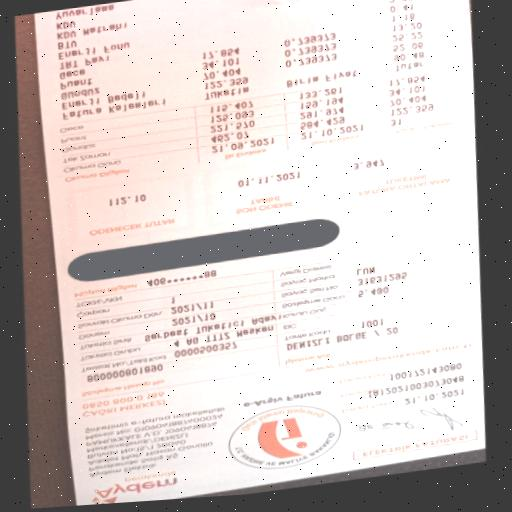electricity-bill: (33, 0, 485, 506)
